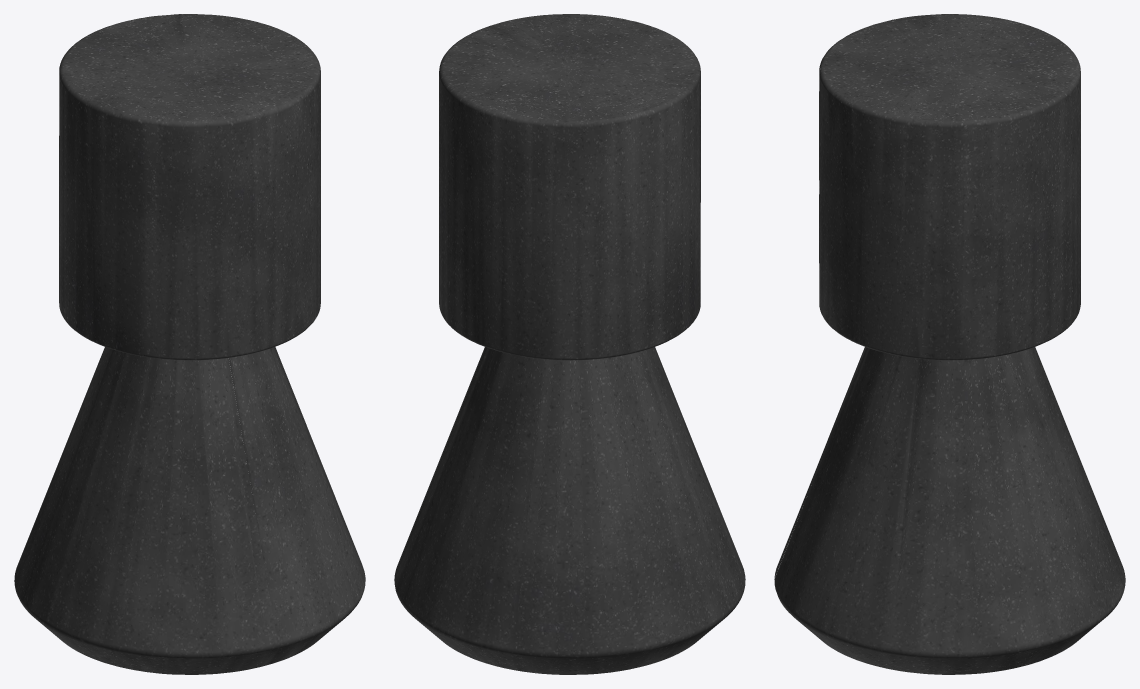
File: knight-black.glb
The picture shows the model from 3 angles, left to right: view 1: azimuth 30°, elevation 25°; view 2: azimuth 150°, elevation 25°; view 3: azimuth 270°, elevation 25°; orthographic projection.
Visible parts, largest first — view 1: 05_jezdec_cerna; view 2: 05_jezdec_cerna; view 3: 05_jezdec_cerna.
Boxes of the visible parts, bbox=[...] form: 05_jezdec_cerna: bbox=[14, 14, 365, 674]; 05_jezdec_cerna: bbox=[394, 14, 745, 674]; 05_jezdec_cerna: bbox=[774, 14, 1125, 674].
Bounding box in the file's own units: 0.7666 × 1.32 × 0.7666.
Materials: 1 (1 with a texture image).
